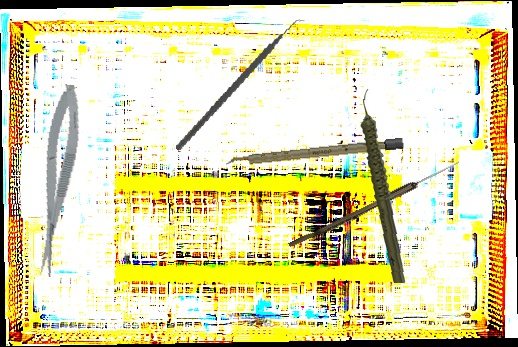Chopper: (175, 0, 312, 171)
Handpiece: (351, 88, 417, 284)
Micro Scissor: (26, 82, 87, 279)
Scalpel Handle: (224, 137, 405, 168)
Surgical Spoon: (288, 157, 461, 252)
